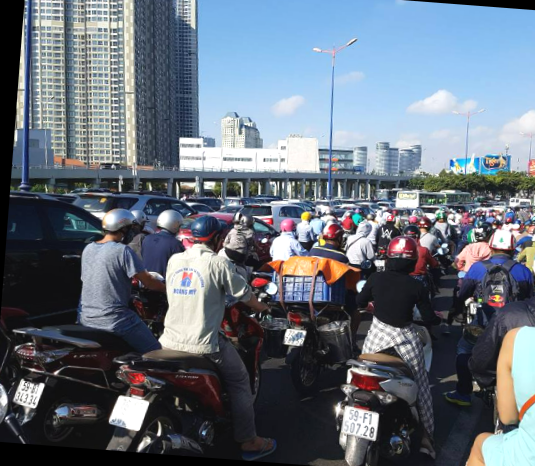Bien-so: (112, 411, 151, 445), (342, 405, 376, 437), (18, 400, 49, 431), (279, 332, 302, 353)
